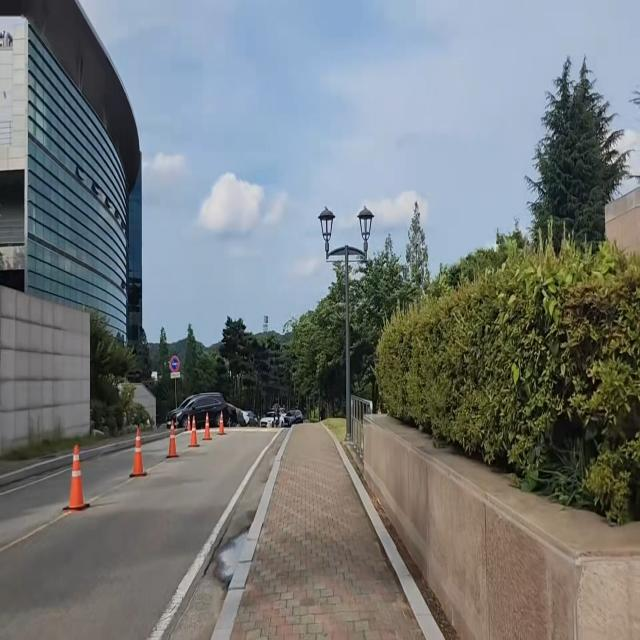obstacle: (318, 197, 380, 446), (60, 436, 91, 514), (128, 419, 153, 484), (162, 413, 181, 464)
road: (0, 430, 287, 640)
sidewalk: (213, 422, 452, 640)
